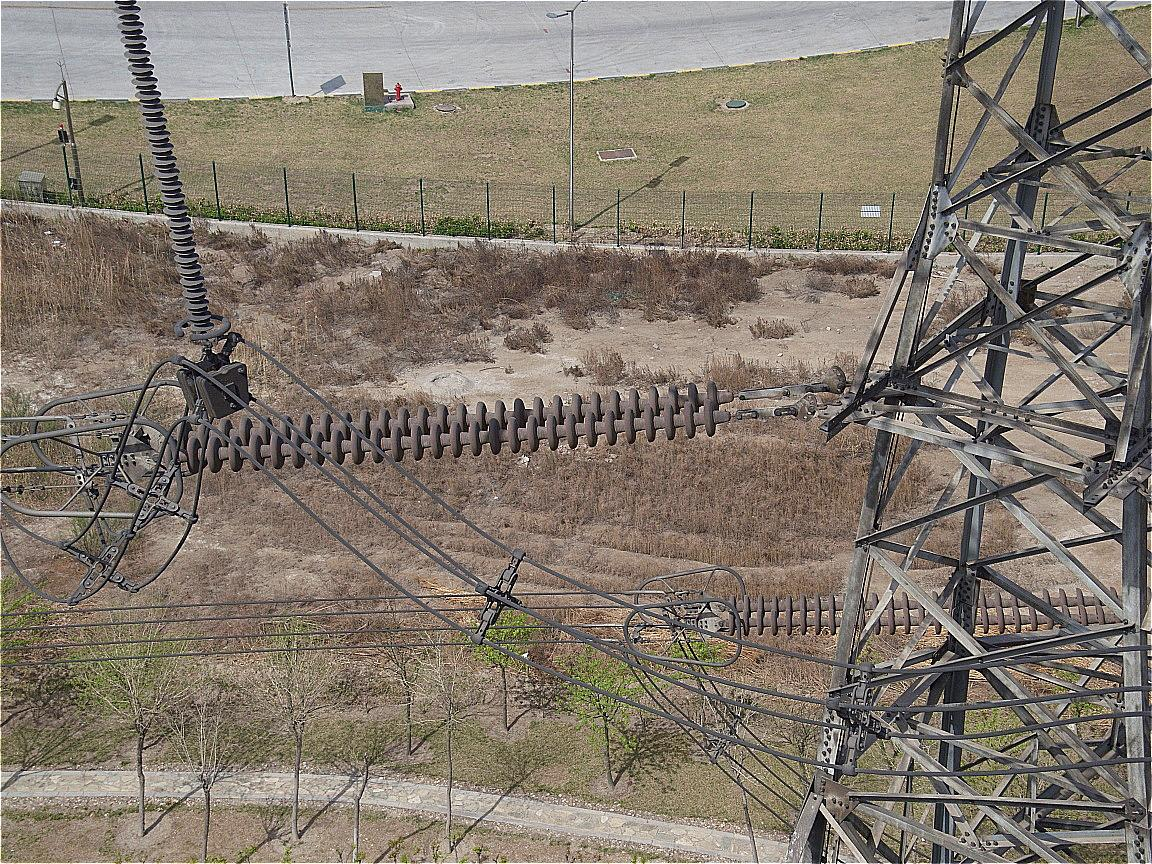insultor1: (165, 383, 754, 485), (723, 575, 1146, 645)
